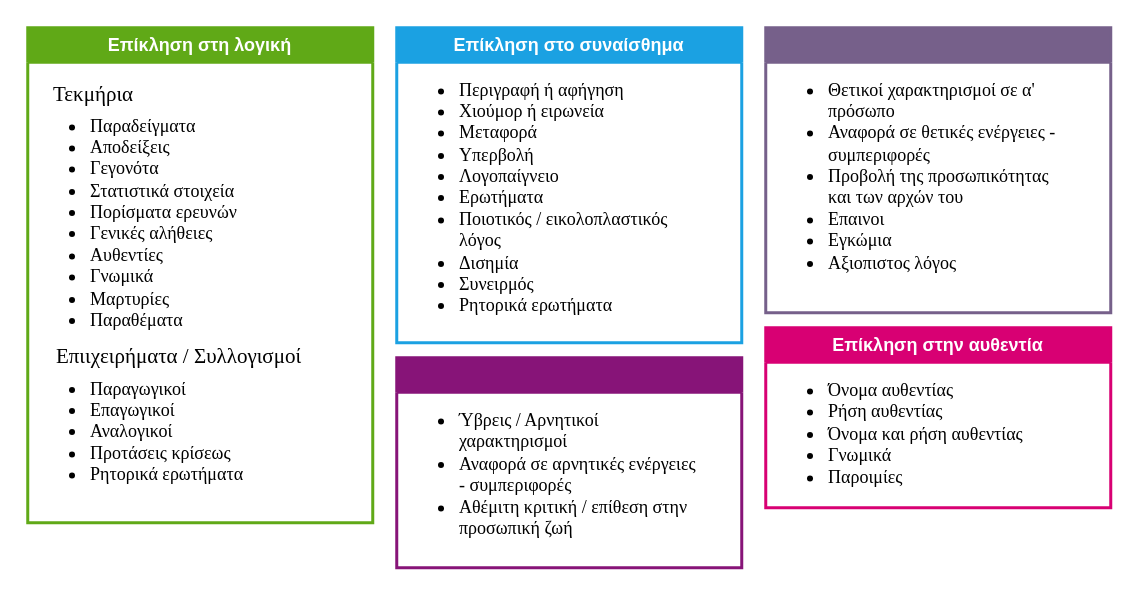
The diagram is 1137 pixels wide and 594 high, and some of its shapes have lost their labels. The box of each missing label's shape, as (x1, y1, x2, y2) in pixels:
Επίθεση στο ήθος του αντιπάλου: (394, 356, 742, 568)
Επίκληση στο ήθος του πομπού: (764, 26, 1112, 314)
